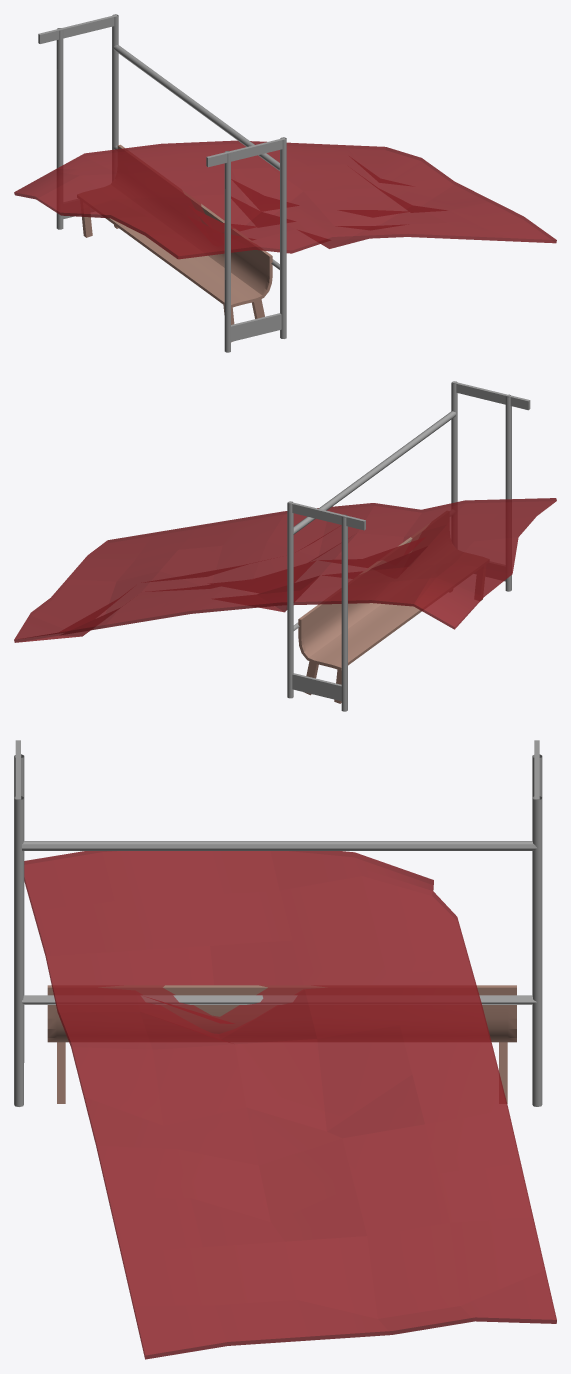
The model's file is busstandModel.fbx.
3 views of the same model, one above another, from view 1: azimuth 30°, elevation 25°; view 2: azimuth 150°, elevation 25°; view 3: azimuth 270°, elevation 25° (orthographic). The views are drawn at different scales.
Visible parts, largest first — view 1: BusStop_001:polySurface1; view 2: BusStop_001:polySurface1; view 3: BusStop_001:polySurface1.
Part boxes in pixels (x1,y1,x2,y2): BusStop_001:polySurface1: (14, 14, 556, 352); BusStop_001:polySurface1: (14, 381, 556, 711); BusStop_001:polySurface1: (14, 740, 556, 1359).
Bounding box in the file's own units: 156 × 71.46 × 104.
